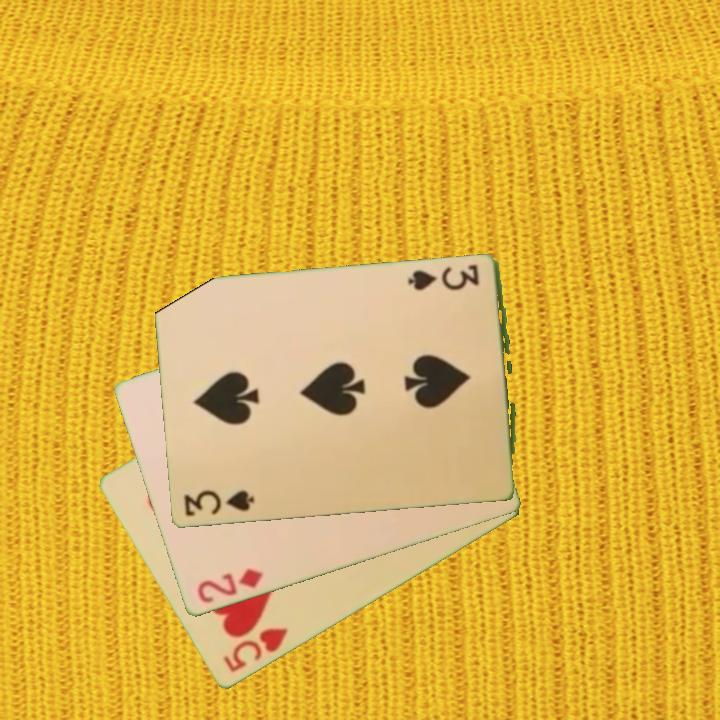2d: (193, 564, 266, 607)
3s: (180, 487, 257, 520), (408, 261, 481, 294)
5h: (219, 624, 291, 676)
